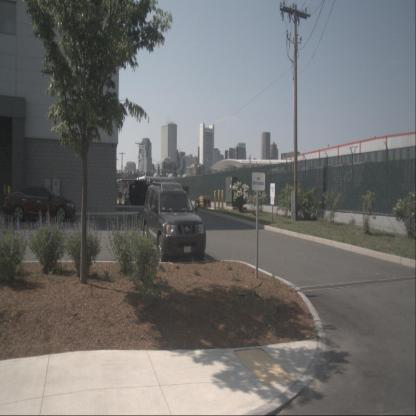vehicle-bus-rigid: (118, 178, 145, 196)
vehicle-car: (142, 181, 207, 263), (3, 185, 76, 223)
